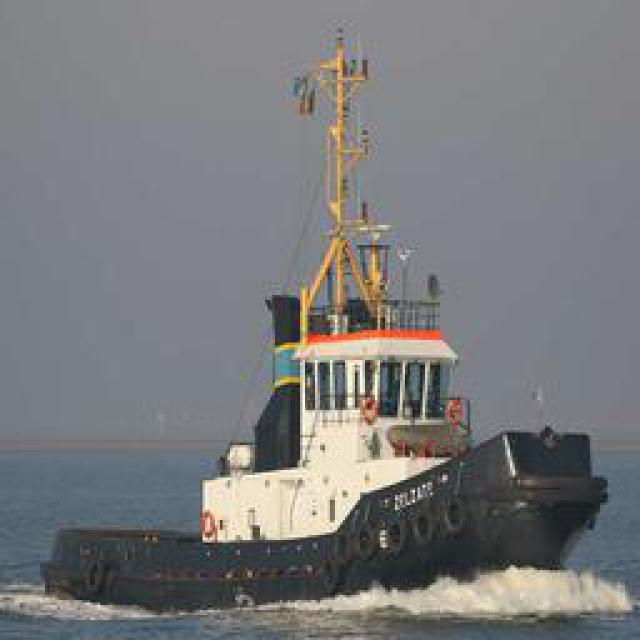Ship: (90, 53, 605, 611)
